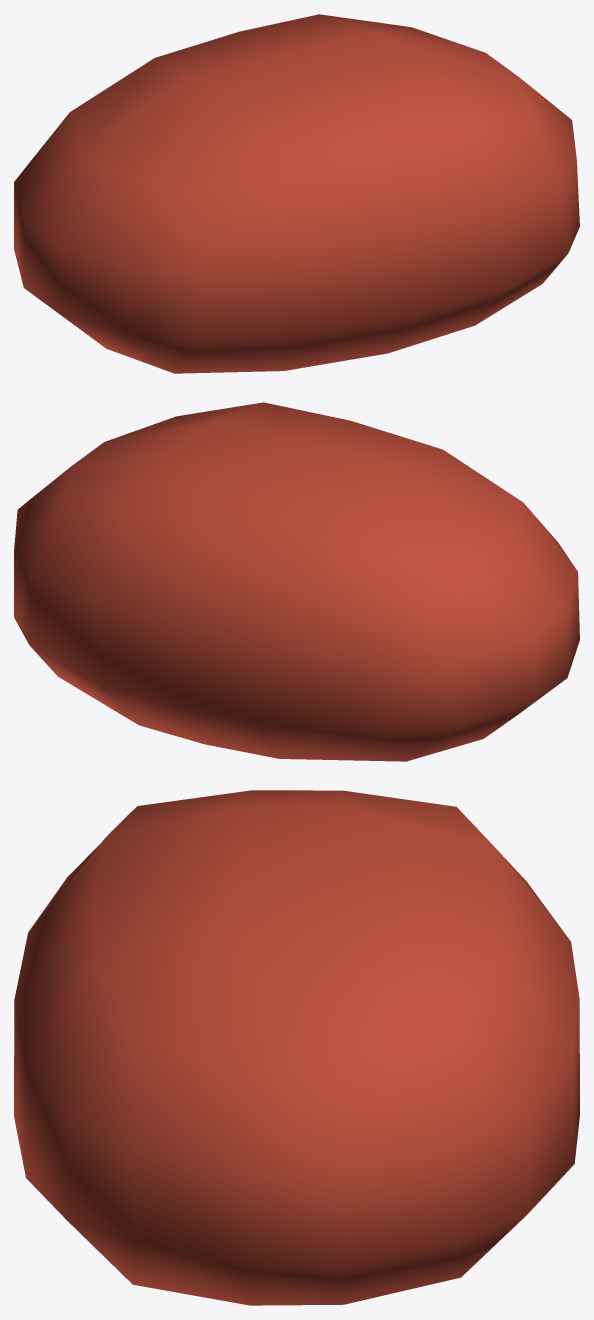
File: sushi_solo (1).fbx
The picture shows the model from 3 angles, top to bottom: view 1: azimuth 30°, elevation 25°; view 2: azimuth 150°, elevation 25°; view 3: azimuth 270°, elevation 25°; orthographic projection. The views are drawn at different scales.
Visible parts, largest first — view 1: pasted__pCube4; view 2: pasted__pCube4; view 3: pasted__pCube4.
Boxes of the visible parts, x1,y1,x2,y2 form: pasted__pCube4: (14,14,579,373); pasted__pCube4: (14,402,579,761); pasted__pCube4: (14,790,579,1305).
Size of the model in its own units: 27.64 by 11.94 by 19.05.
